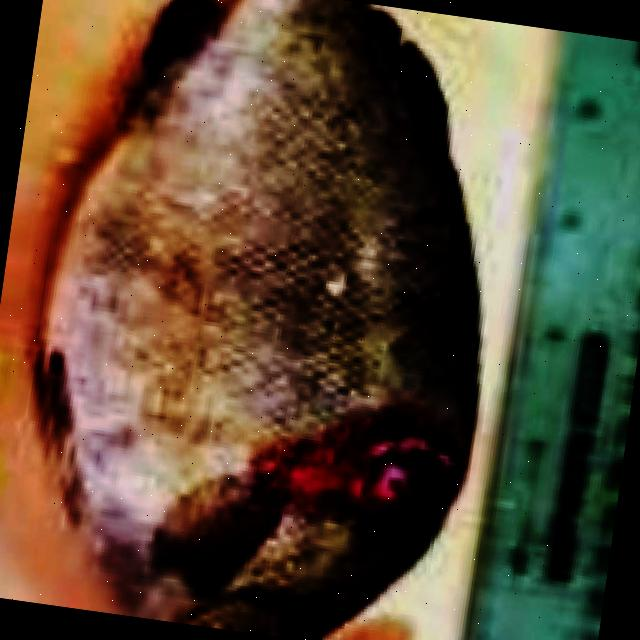Aeromonas Septicemia: (38, 0, 478, 640), (43, 0, 477, 640), (146, 609, 174, 622)
